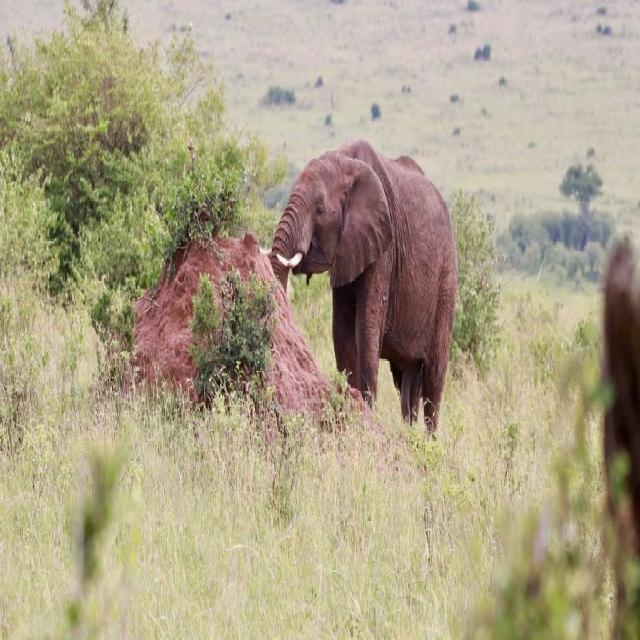Elephant: (272, 132, 457, 439)
